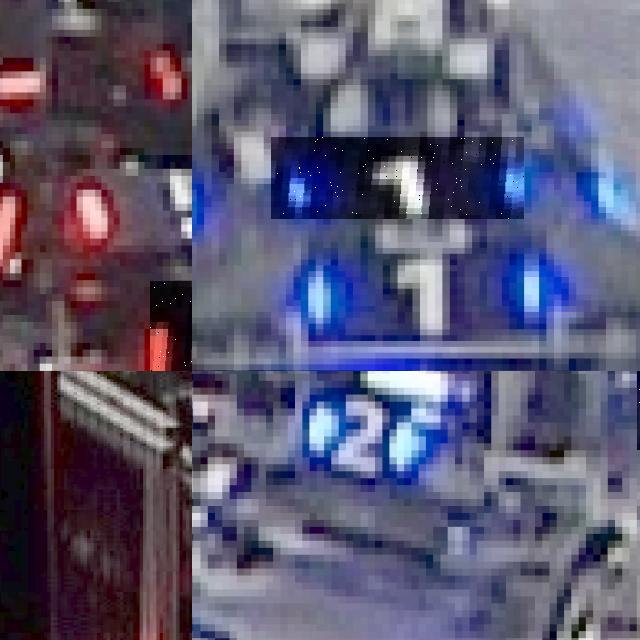B1: (290, 248, 543, 335), (271, 137, 524, 219)
B2: (295, 381, 419, 478)
